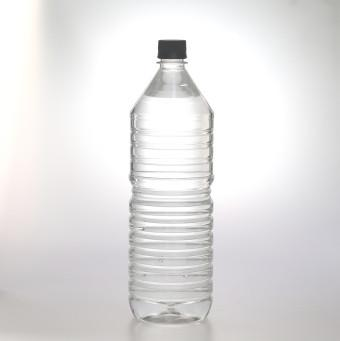plastic_bottle: (126, 36, 220, 328)
